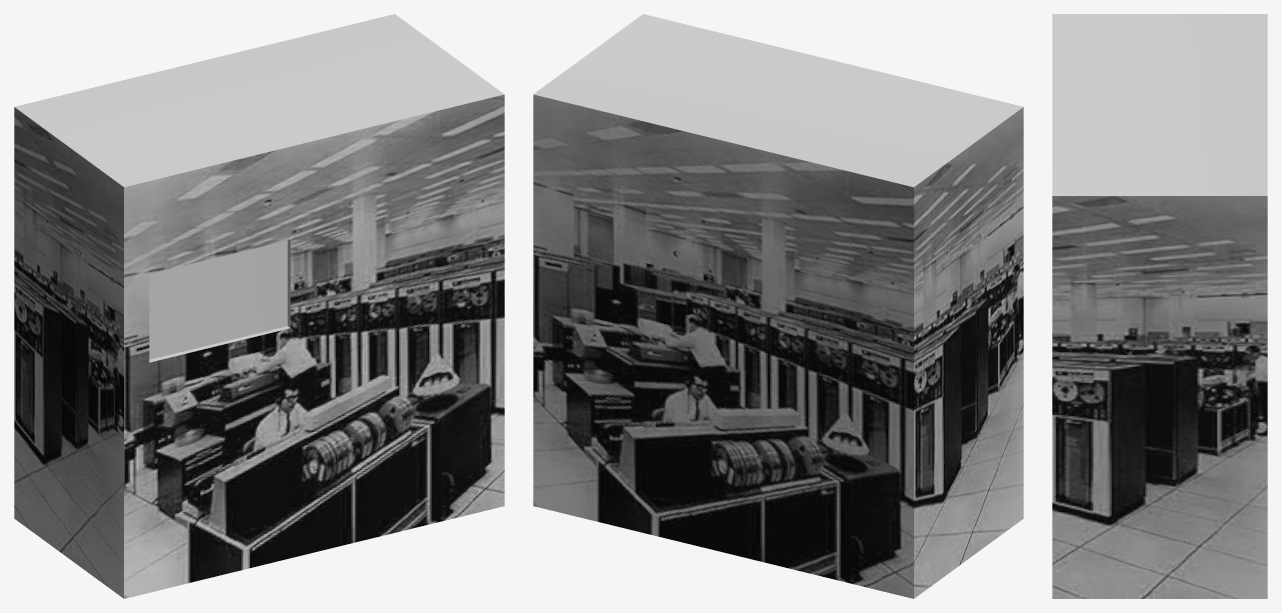
File: mainframe.fbx
The picture shows the model from 3 angles, left to right: view 1: azimuth 30°, elevation 25°; view 2: azimuth 150°, elevation 25°; view 3: azimuth 270°, elevation 25°; orthographic projection. The views are drawn at different scales.
Visible parts, largest first — view 1: Mass Element <Standard> Body; view 2: Mass Element <Standard> Body; view 3: Mass Element <Standard> Body.
Boxes of the visible parts, x1,y1,x2,y2 form: Mass Element <Standard> Body: (14, 14, 504, 598); Mass Element <Standard> Body: (533, 14, 1023, 598); Mass Element <Standard> Body: (1052, 14, 1267, 598).
Size of the model in its own units: 1.5 by 1.55 by 0.75.
Materials: 1 (1 with a texture image).
